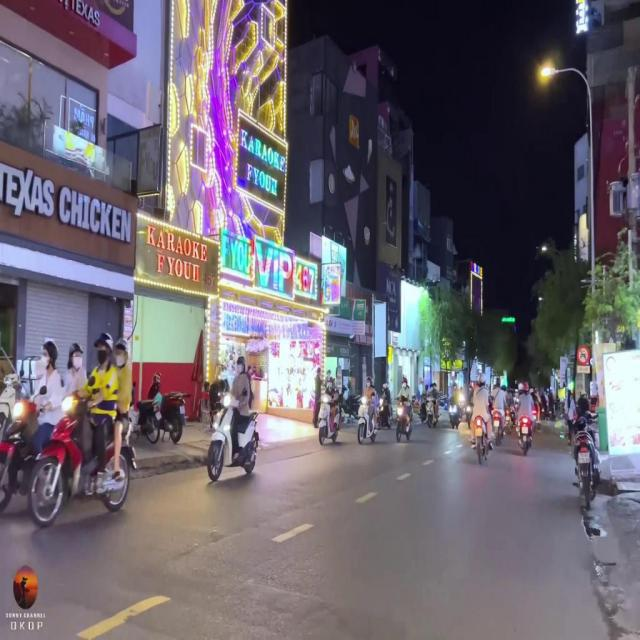cam_o_to: (577, 345, 590, 365)
khac: (577, 366, 590, 374)
